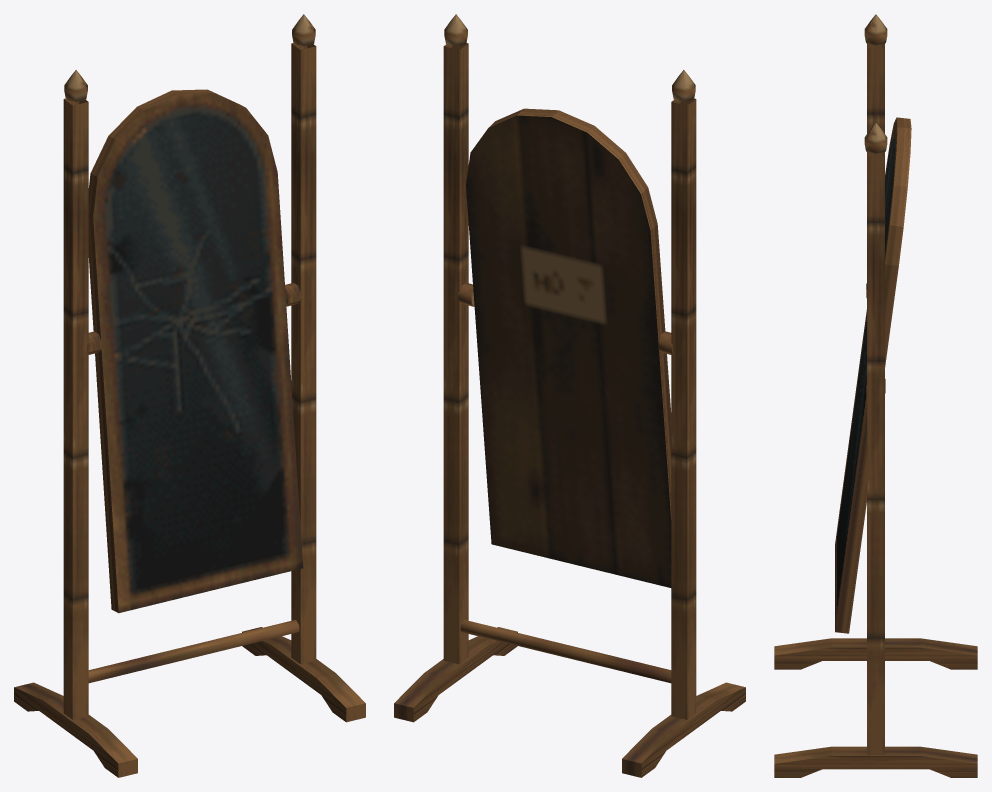
The model's file is mirror_standing.obj.
The picture shows the model from 3 angles, left to right: view 1: azimuth 30°, elevation 25°; view 2: azimuth 150°, elevation 25°; view 3: azimuth 270°, elevation 25°; orthographic projection. The views are drawn at different scales.
Parts seen in each view (by area): view 1: mirror_standing; view 2: mirror_standing; view 3: mirror_standing.
Boxes of the visible parts, box(x1,y1,x2,y2) form: mirror_standing: box(14, 14, 365, 777); mirror_standing: box(394, 14, 745, 777); mirror_standing: box(774, 14, 977, 777).
Bounding box in the file's own units: 0.64 × 1.62 × 0.46.
Materials: 1 (1 with a texture image).
